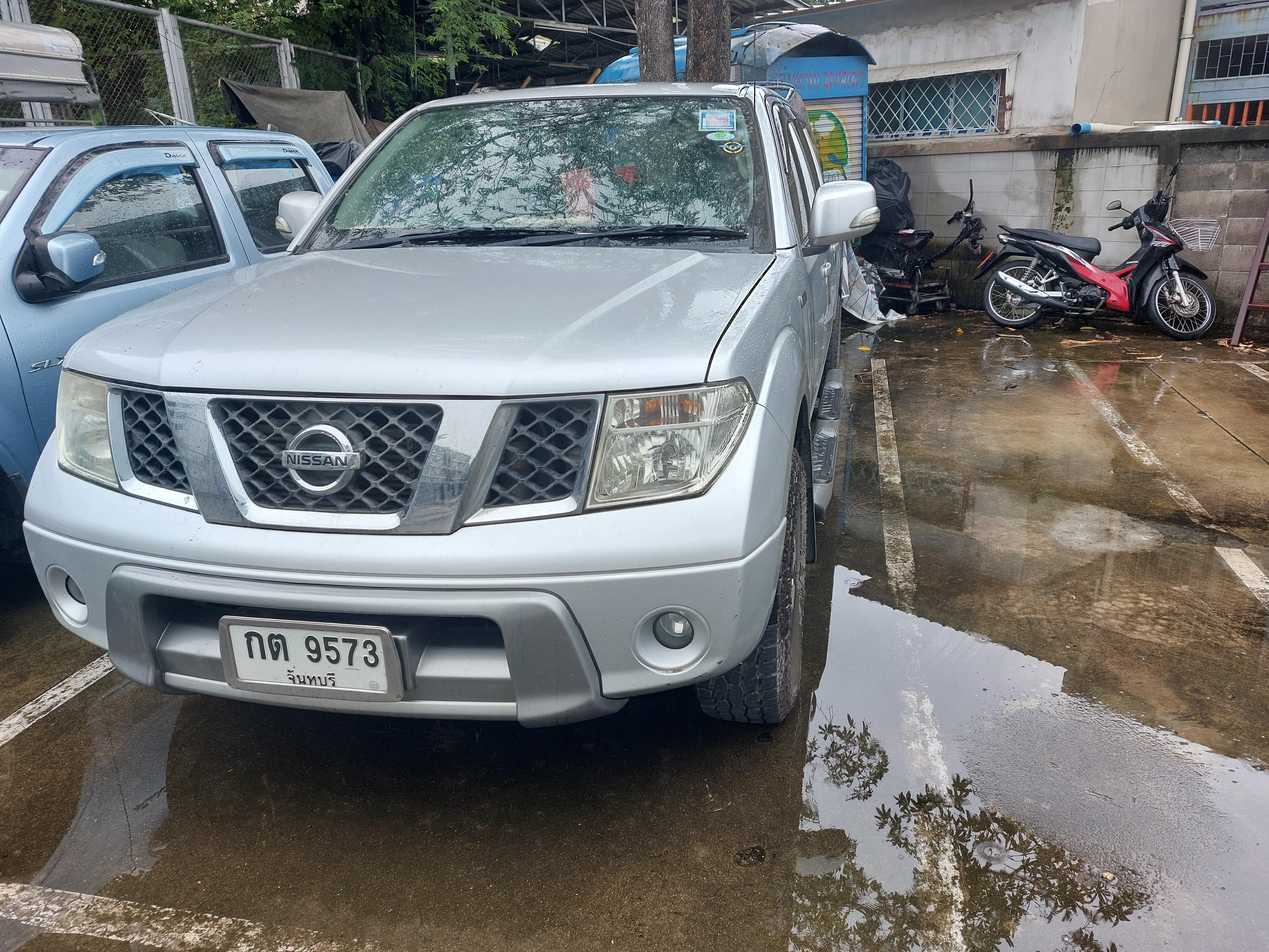license-plate: (213, 601, 406, 705)
